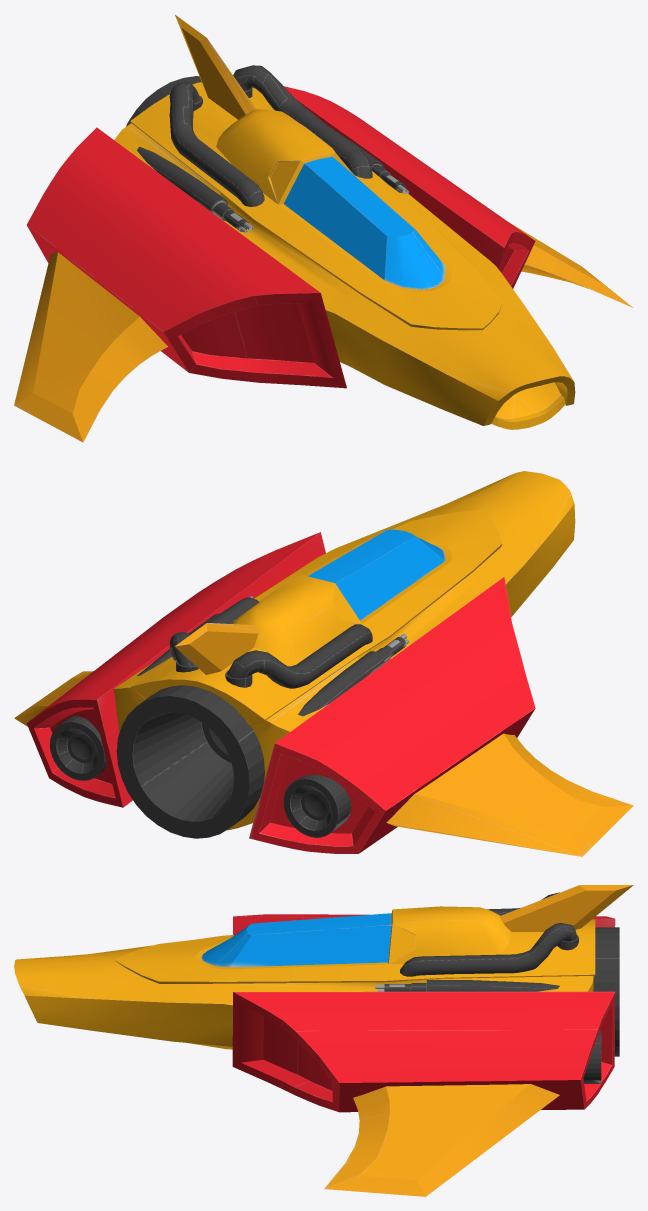
The model's file is opponent.obj.
The picture shows the model from 3 angles, top to bottom: view 1: azimuth 30°, elevation 25°; view 2: azimuth 150°, elevation 25°; view 3: azimuth 270°, elevation 25°; orthographic projection. The views are drawn at different scales.
Parts seen in each view (by area): view 1: opponent; view 2: opponent; view 3: opponent.
Part boxes in pixels (x1,y1,x2,y2): opponent: (14, 15, 632, 442); opponent: (14, 471, 633, 856); opponent: (14, 885, 633, 1196).
Bounding box in the file's own units: 1291 × 503 × 1448.
